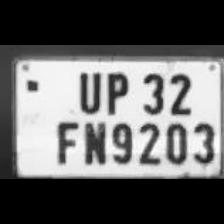0: (162, 117, 188, 165)
2: (164, 68, 194, 116), (134, 119, 160, 167)
3: (134, 66, 166, 114), (189, 118, 215, 166)
9: (107, 117, 133, 165)
F: (50, 118, 80, 166)
N: (78, 117, 106, 165)
P: (100, 66, 132, 114)
U: (72, 66, 104, 114)
